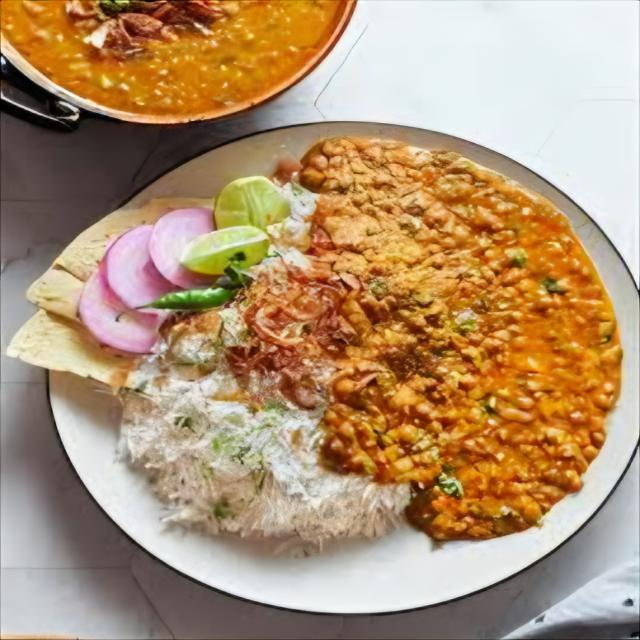PAPADAM: (1, 206, 209, 378)
RICE: (114, 196, 404, 548)
VEGGIES: (320, 136, 639, 566)
